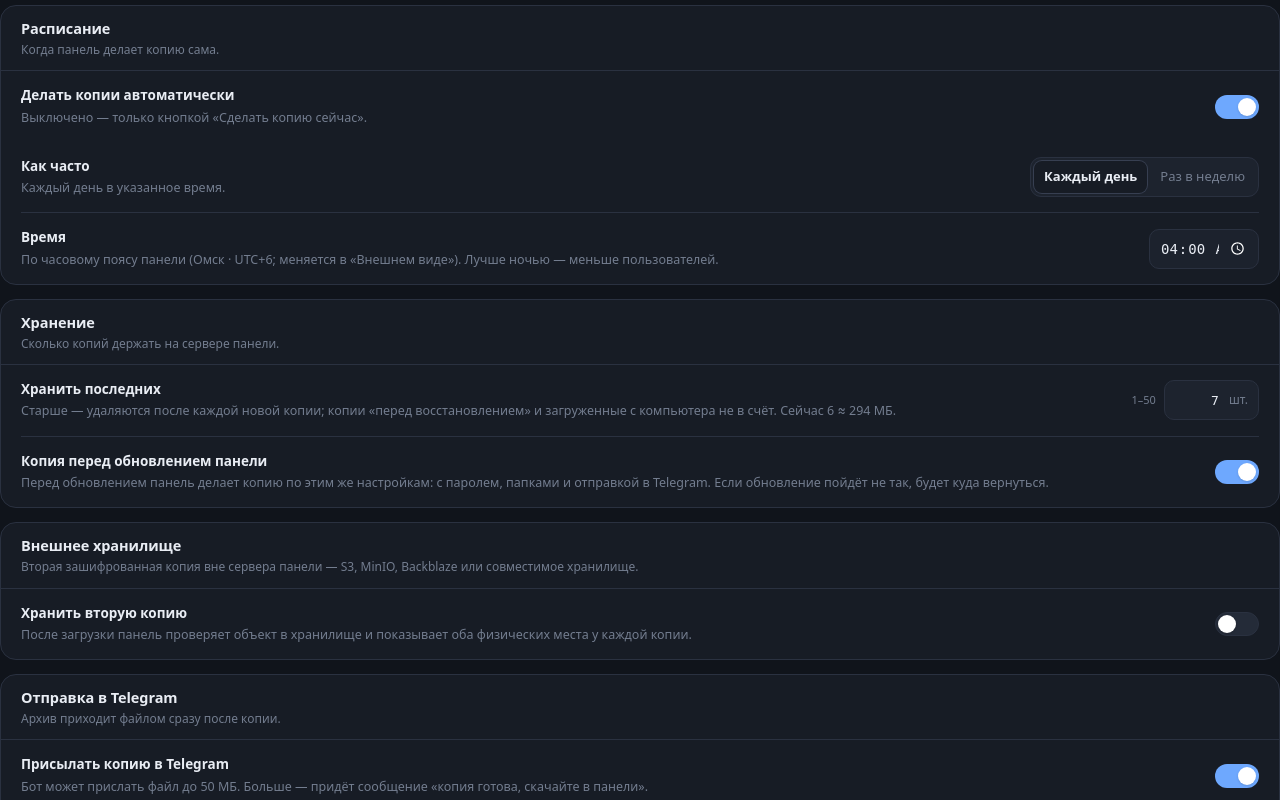
настройки копий: свой чат › свой чат сохранён — остальные настройки сохраняются: неизменённое поле на сервер не уходит
This screenshot has width=1280, height=800.
(page scrolled)
Replace the text in the field labelled "Хранить последних" with "10" at (1196,400), box [1165,391,1227,410]
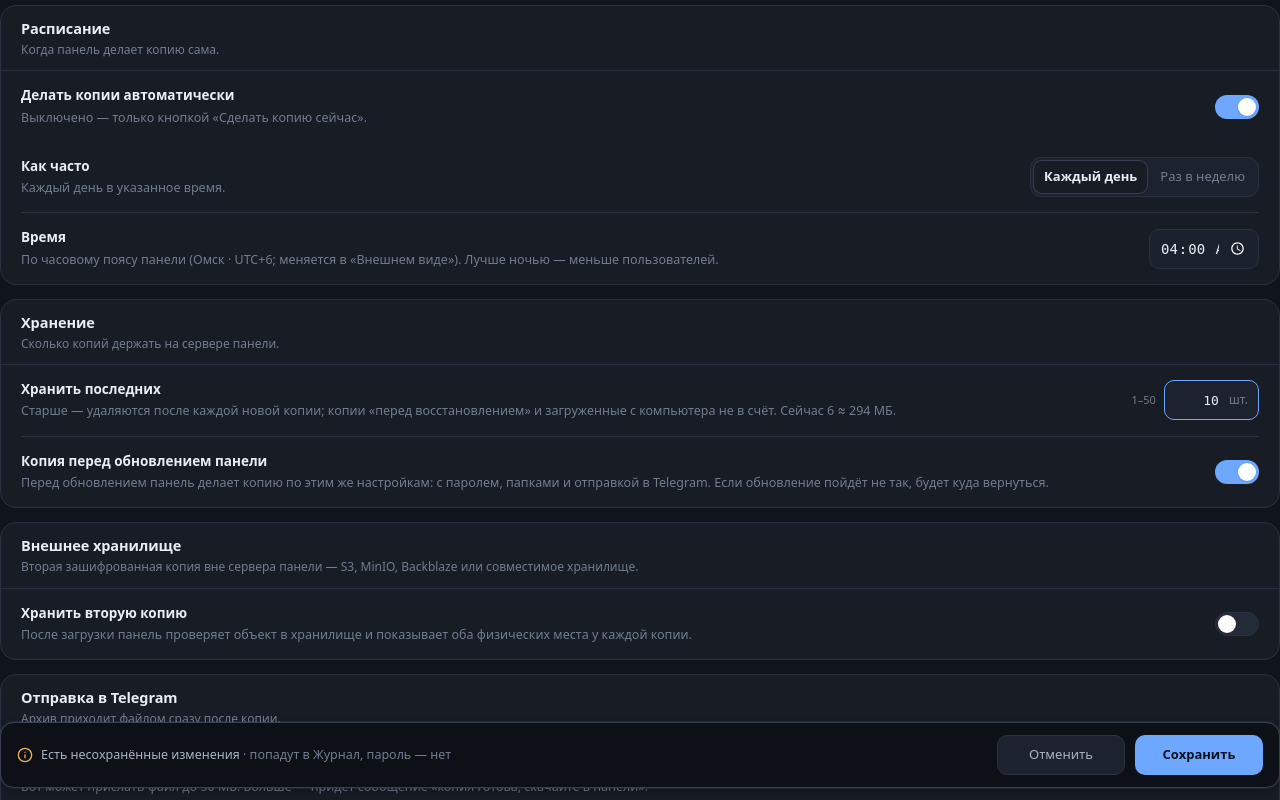
Click the button "Сохранить" at (1199,755), box [1135,735,1263,775]
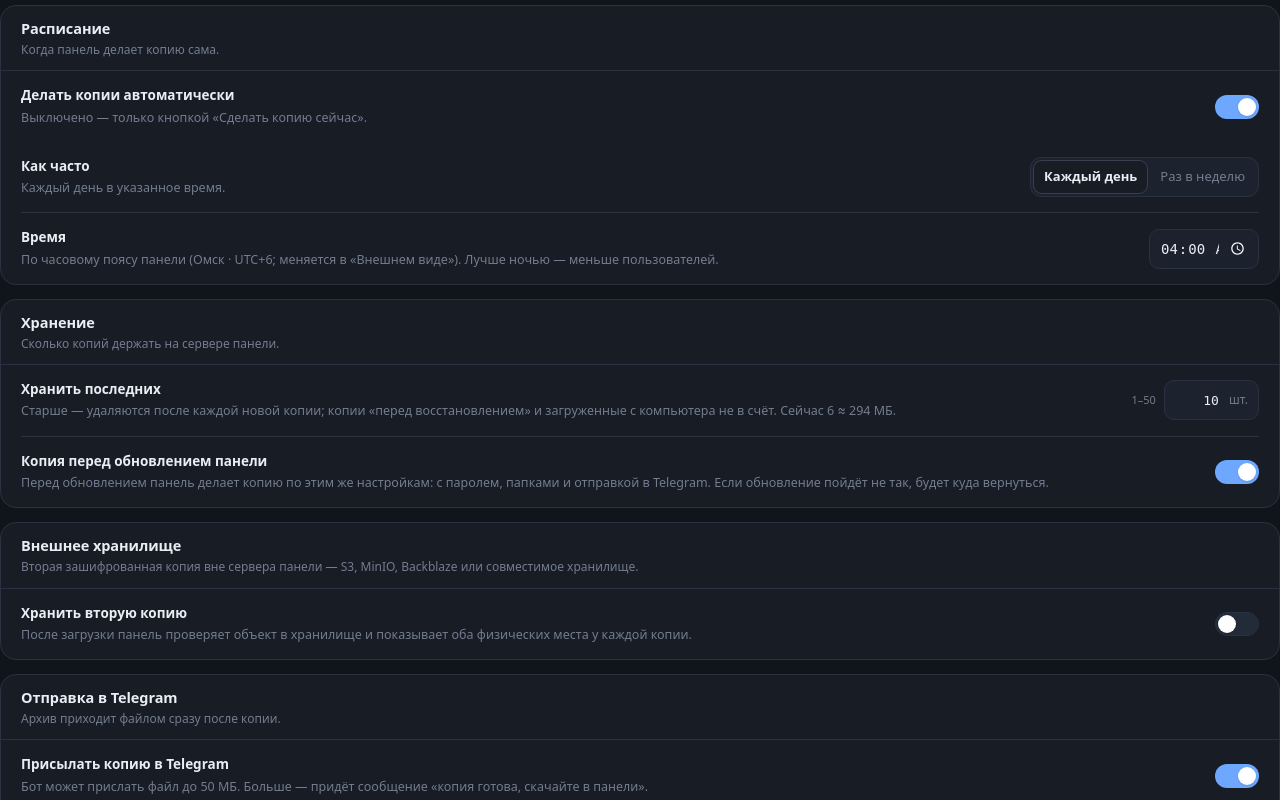
Expected: the button "Сохранить" is gone
